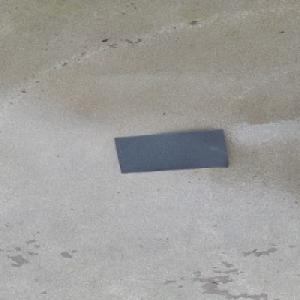PaintChip: (112, 128, 227, 173)
